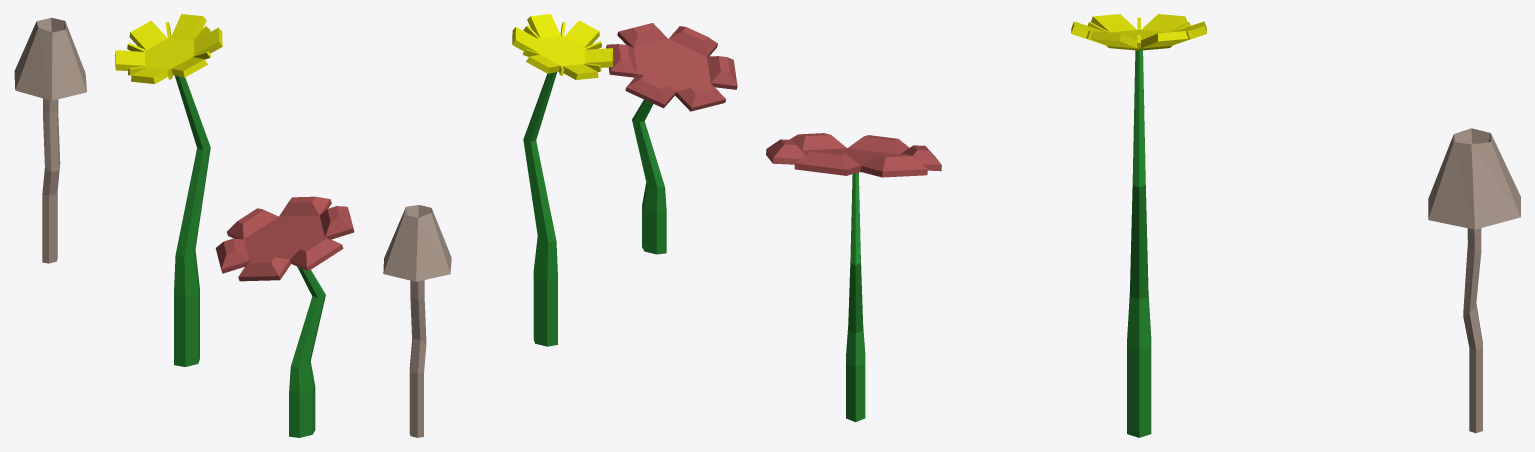
The model's file is Flowers.fbx.
3 views of the same model, side by side, from view 1: azimuth 30°, elevation 25°; view 2: azimuth 150°, elevation 25°; view 3: azimuth 270°, elevation 25° (orthographic). The views are drawn at different scales.
Visible parts, largest first — view 1: pCylinder64, Mushroom, pCylinder61, pCylinder62, pCylinder63; view 2: pCylinder64, Mushroom, pCylinder61, pCylinder62, pCylinder63; view 3: Mushroom, pCylinder61, pCylinder64, pCylinder63, pCylinder62.
Part boxes in pixels (left/top/right/bottom): pCylinder64: left=215, top=196, right=354, bottom=281; Mushroom: left=14, top=17, right=86, bottom=263; pCylinder61: left=174, top=75, right=210, bottom=366; pCylinder62: left=115, top=14, right=222, bottom=83; pCylinder63: left=289, top=266, right=325, bottom=437; pCylinder64: left=606, top=23, right=737, bottom=111; Mushroom: left=383, top=205, right=451, bottom=437; pCylinder61: left=523, top=72, right=557, bottom=346; pCylinder62: left=512, top=14, right=613, bottom=79; pCylinder63: left=632, top=99, right=666, bottom=254; Mushroom: left=1428, top=128, right=1520, bottom=433; pCylinder61: left=1127, top=50, right=1151, bottom=437; pCylinder64: left=766, top=133, right=941, bottom=177; pCylinder63: left=846, top=172, right=865, bottom=422; pCylinder62: left=1071, top=14, right=1206, bottom=50.
Size of the model in its own units: 0.1437 by 0.3768 by 0.6271.
